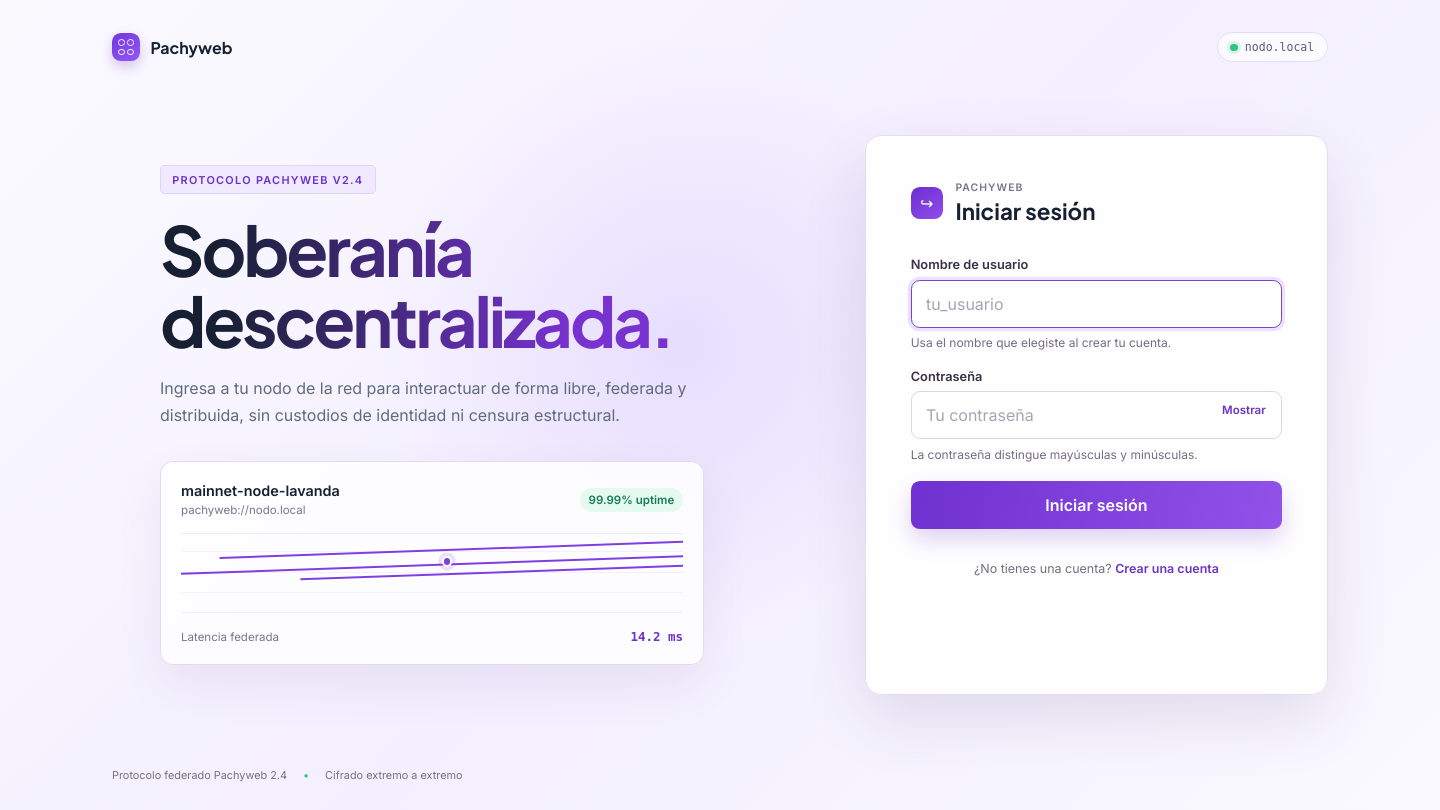
inicio de sesión › muestra validaciones y permite alternar la contraseña
The width and height of the screenshot is (1440, 810).
Click the button "Iniciar sesión" at (1096, 505), box [911, 481, 1282, 529]
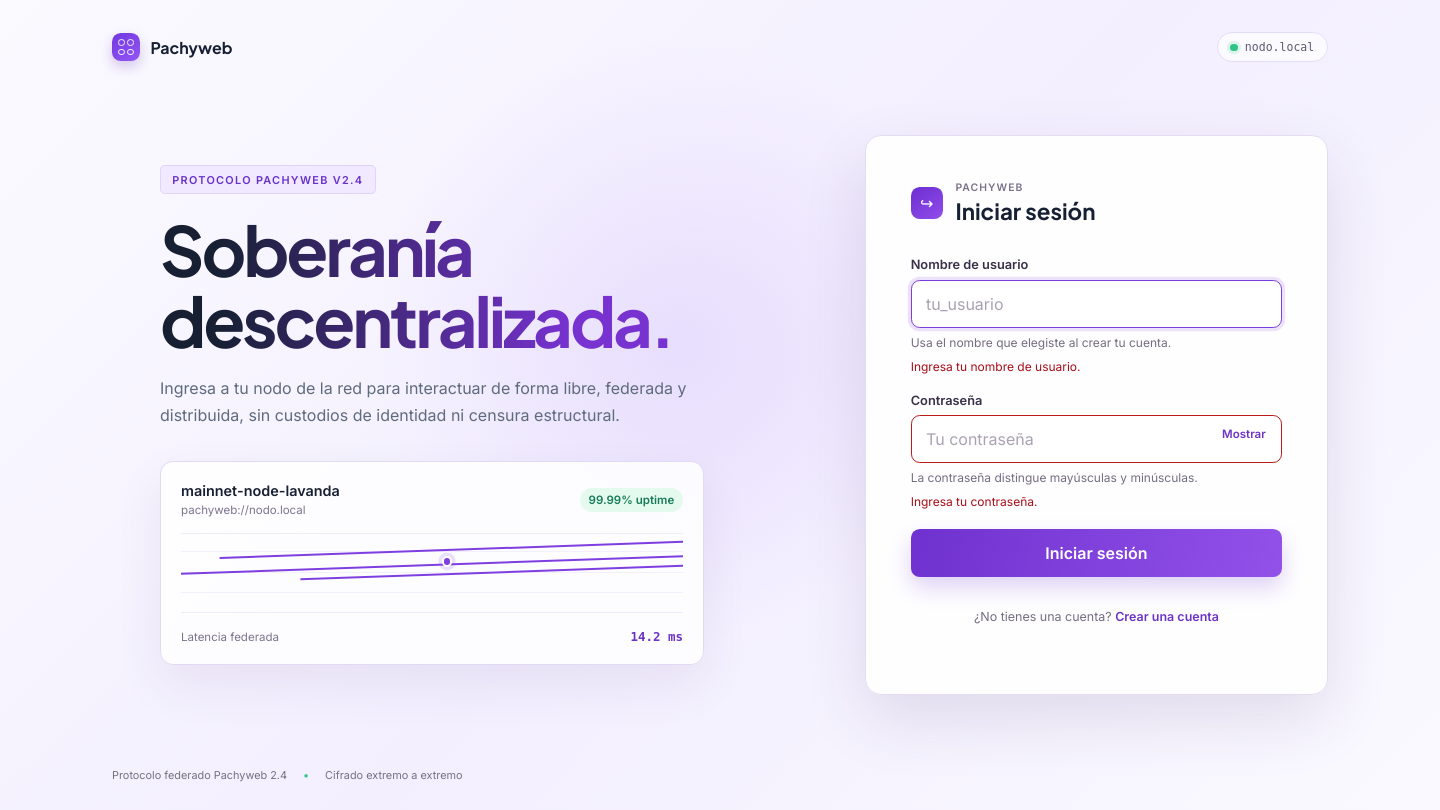
expect the text "Ingresa tu nombre de usuario." is shown: met, box [911, 359, 1080, 374]
expect the text "Ingresa tu contraseña." is shown: met, box [911, 494, 1038, 510]
Type "secreta123" into the password field labelled "Contraseña" at (1096, 439), box [911, 415, 1282, 463]
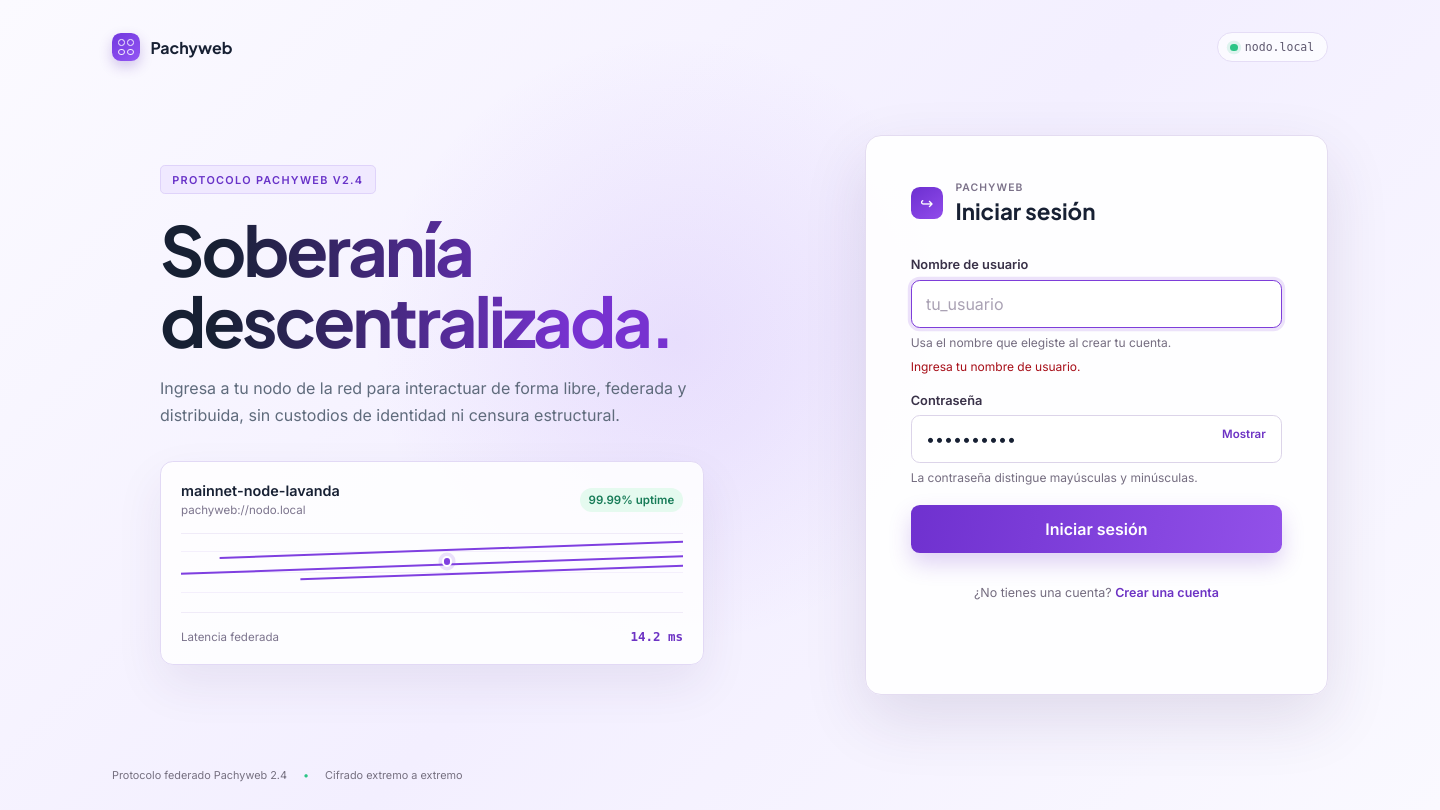
Click the button named "Mostrar contraseña" at (1244, 434), box [1216, 426, 1272, 442]
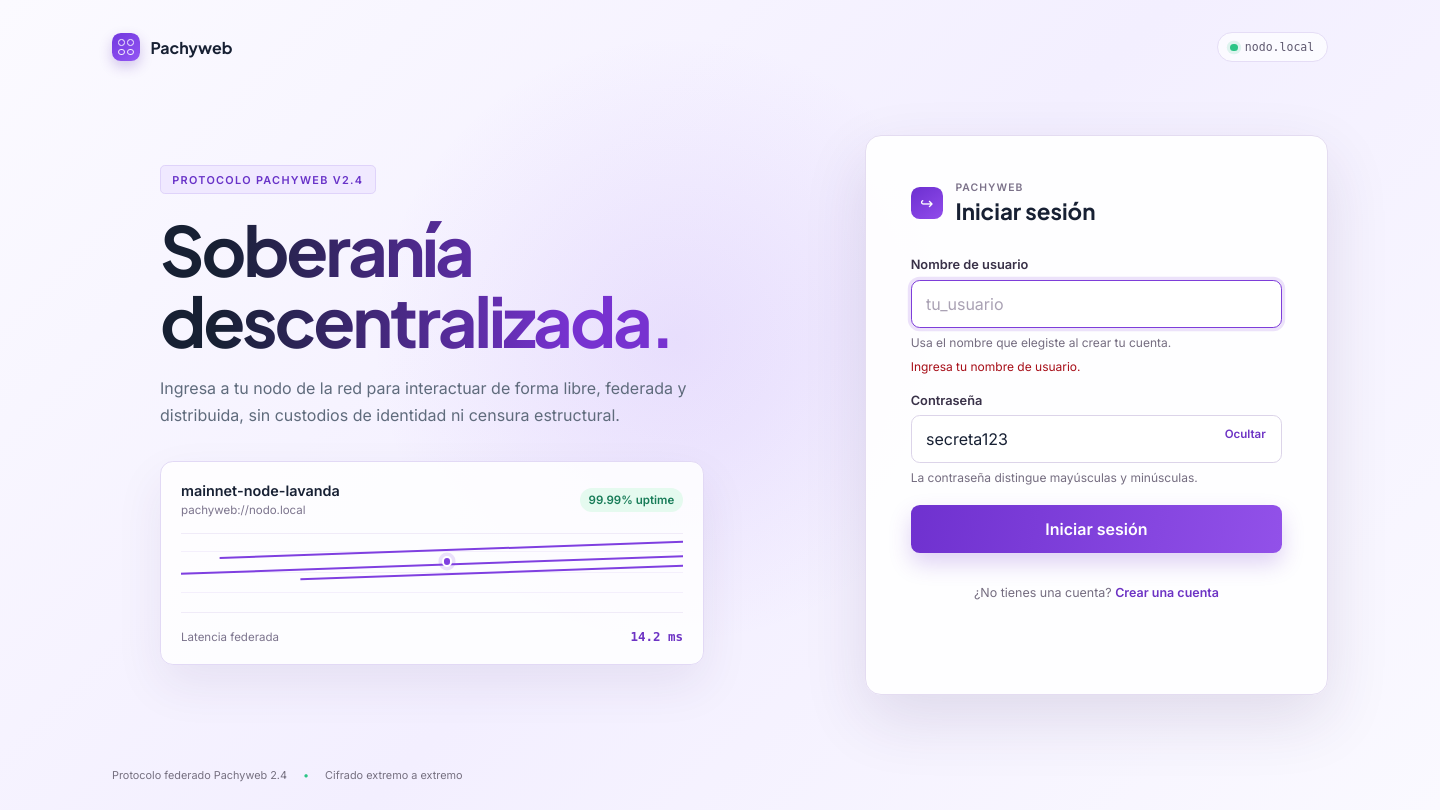
expect the field labelled "Contraseña" shows its text: met, box [911, 415, 1282, 463]
